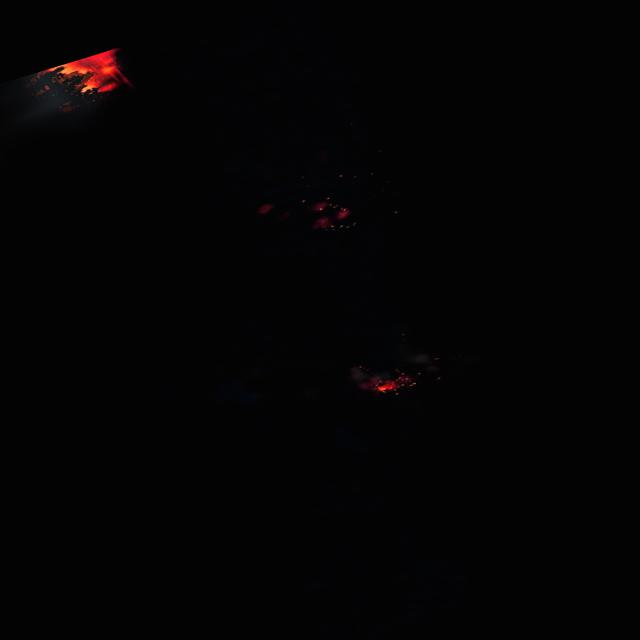fire: (33, 46, 134, 111), (368, 371, 414, 398)
smoke: (0, 52, 129, 193), (305, 193, 353, 231), (252, 200, 274, 216)
